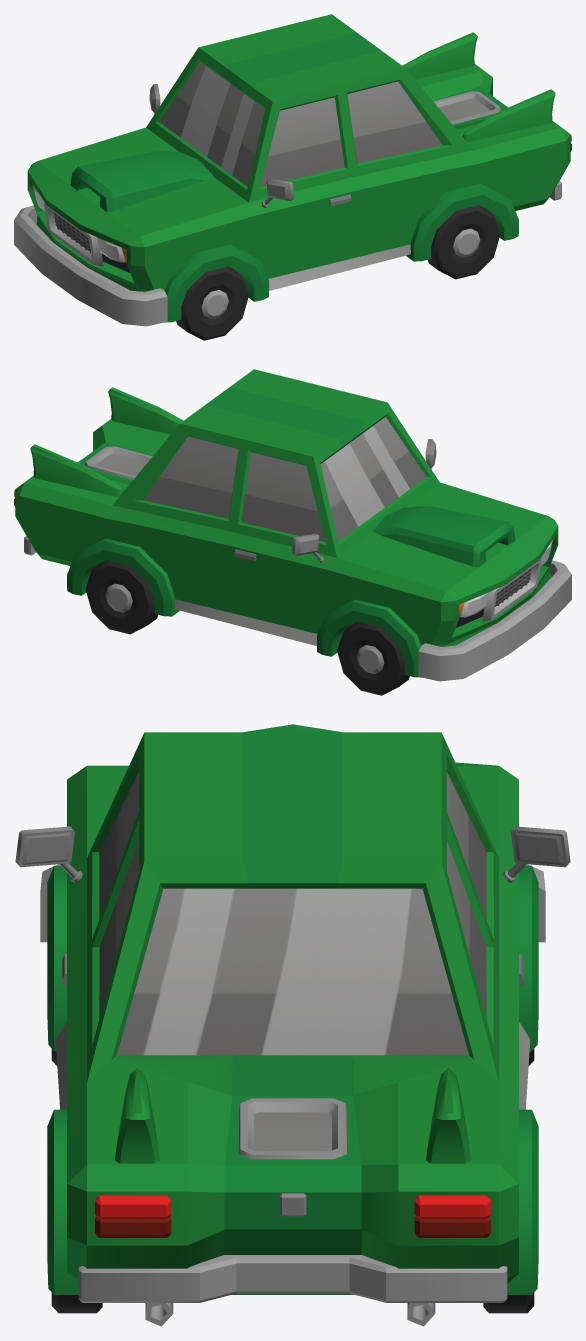
The model's file is Car_10_H.fbx.
3 renders of one model, top to bottom at view 1: azimuth 30°, elevation 25°; view 2: azimuth 150°, elevation 25°; view 3: azimuth 270°, elevation 25°, orthographic. The views are drawn at different scales.
Parts seen in each view (by area): view 1: Car_10_H, RL, FL; view 2: Car_10_H, RR, FR; view 3: Car_10_H, RL, RR.
Part boxes in pixels (x1,y1,x2,y2): Car_10_H: (14, 14, 571, 326); RL: (428, 205, 500, 279); FL: (176, 266, 248, 340); Car_10_H: (14, 369, 571, 681); RR: (85, 560, 157, 634); FR: (337, 621, 409, 695); Car_10_H: (15, 724, 570, 1326); RL: (51, 1293, 102, 1313); RR: (483, 1293, 534, 1313).
Bounding box in the file's own units: 3.58 × 1.49 × 1.85.
